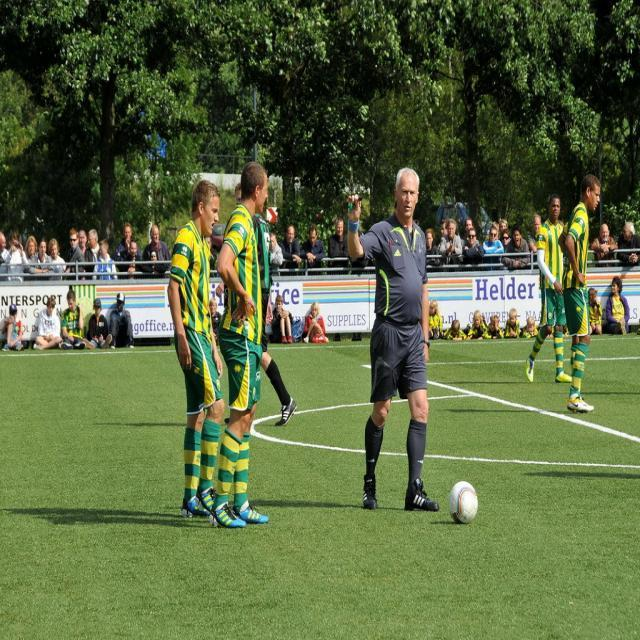football: (447, 477, 495, 532)
